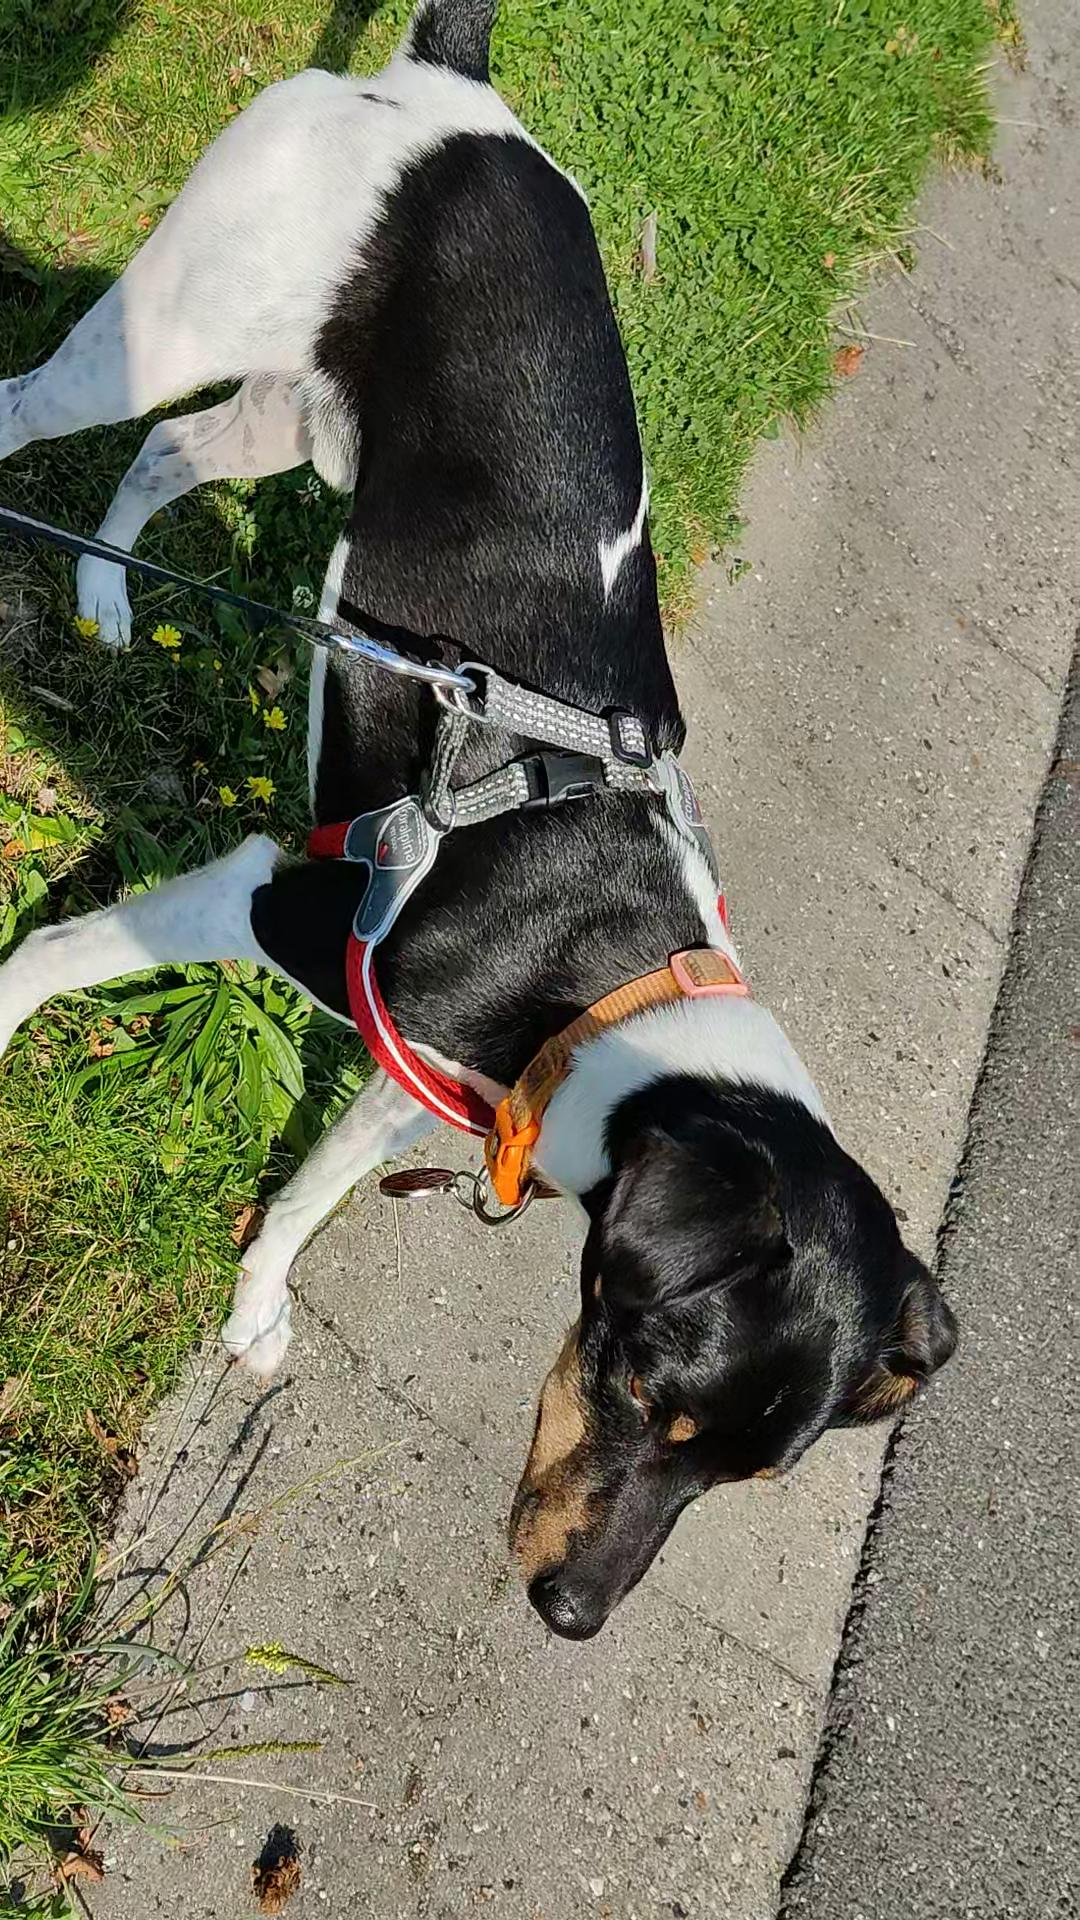Dog: (0, 0, 975, 1667)
